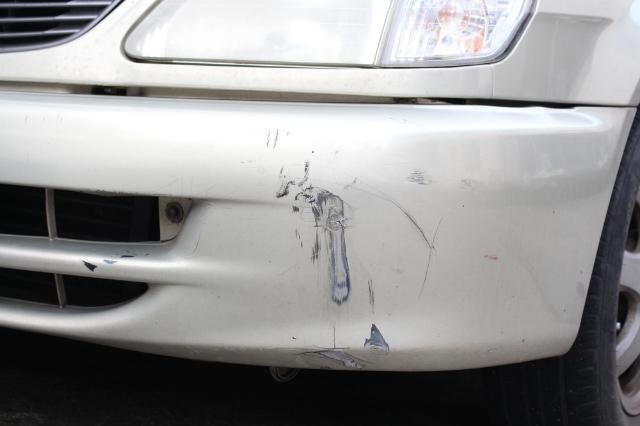scratch: (265, 123, 445, 373)
